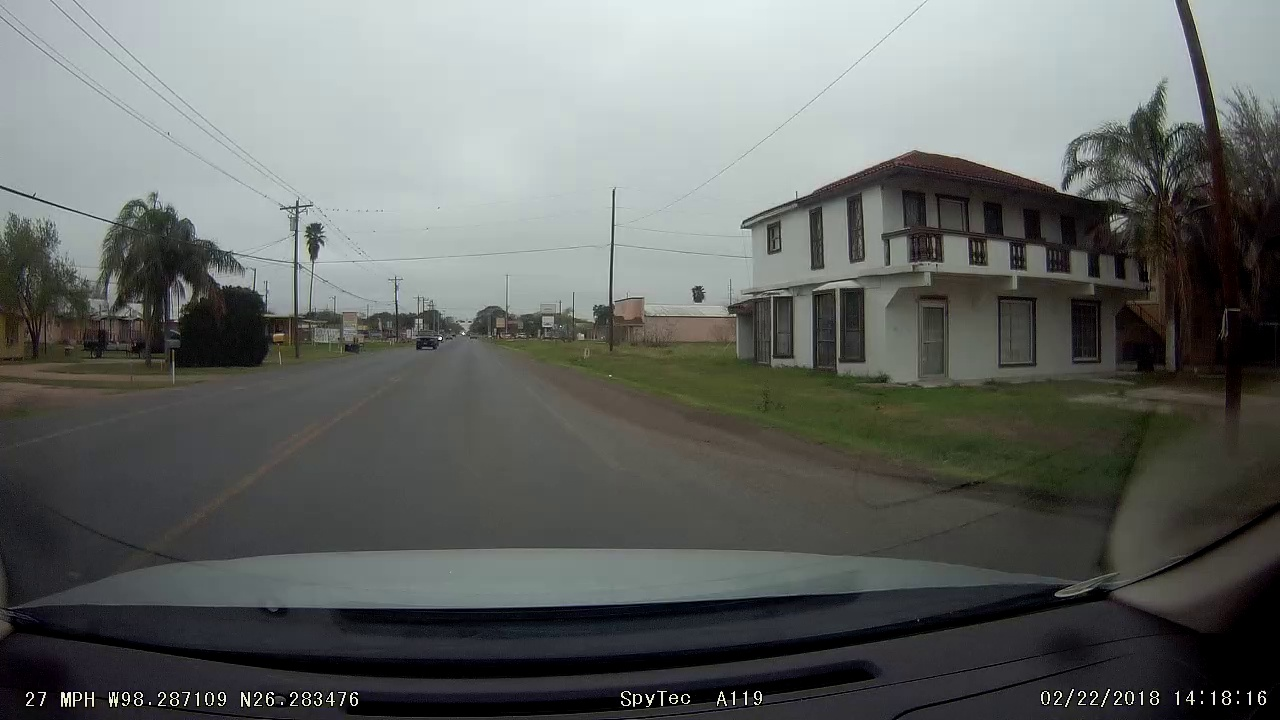blurredLine: (326, 374, 401, 424), (513, 372, 558, 412)
